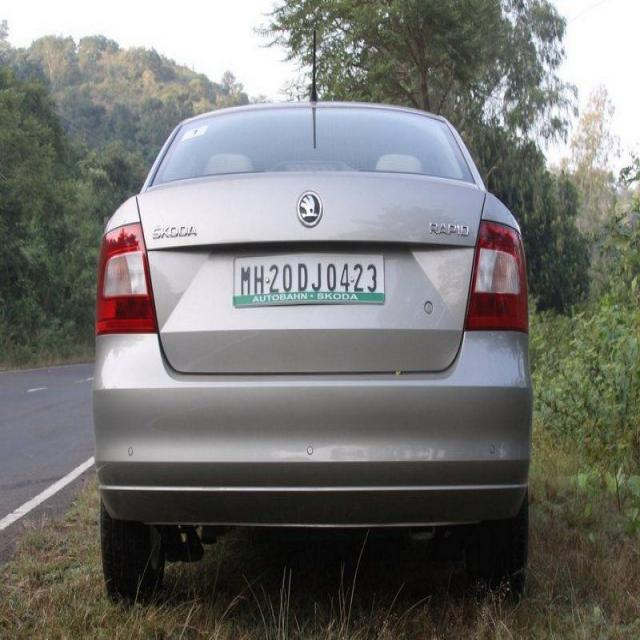Number-Plate: (237, 251, 386, 305)
